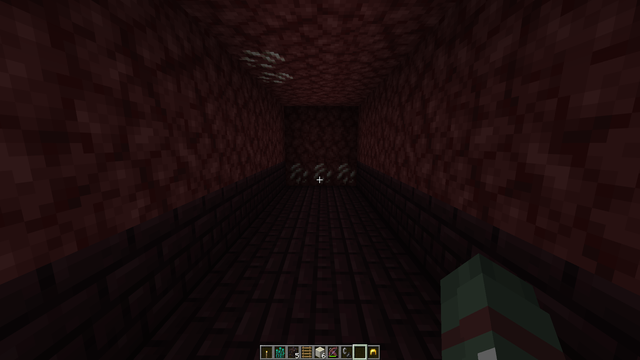quartz: (233, 45, 295, 88), (284, 160, 358, 188)
